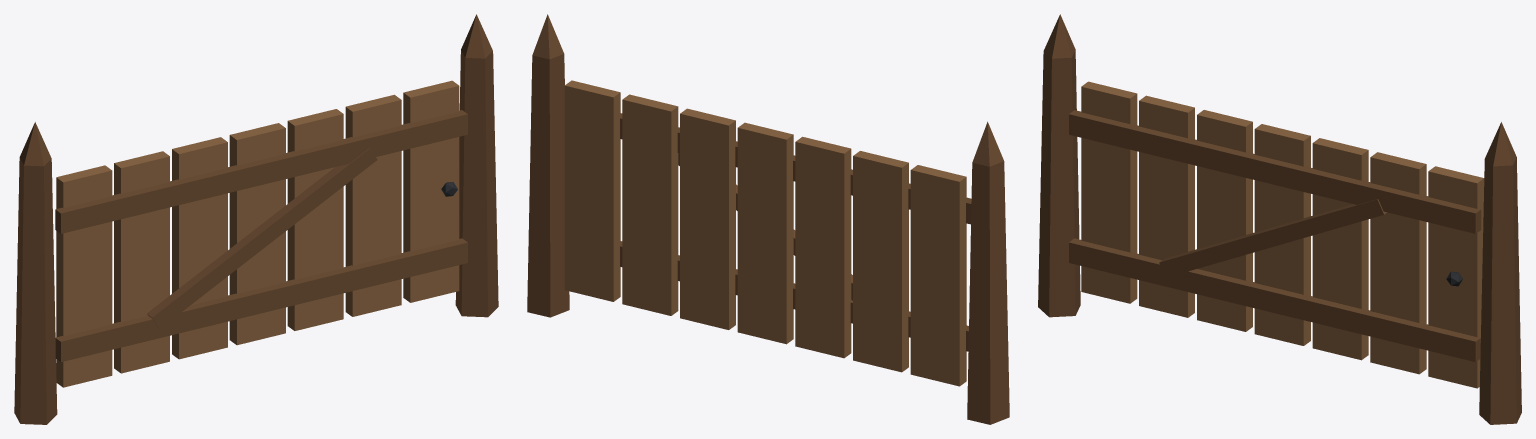
File: fence_gate.glb
3 views of the same model, side by side, from view 1: azimuth 30°, elevation 25°; view 2: azimuth 150°, elevation 25°; view 3: azimuth 330°, elevation 25° (orthographic).
Parts seen in each view (by area): view 1: gate_door, fence_gate; view 2: gate_door, fence_gate; view 3: gate_door, fence_gate.
Boxes of the visible parts, left/top/right/bottom form: gate_door: left=55, top=80, right=467, bottom=387; fence_gate: left=14, top=14, right=498, bottom=424; gate_door: left=564, top=80, right=971, bottom=386; fence_gate: left=527, top=14, right=1009, bottom=424; gate_door: left=1069, top=81, right=1484, bottom=388; fence_gate: left=1038, top=14, right=1521, bottom=424.
Bounding box in the file's own units: 1.95 × 1.15 × 0.1609.
